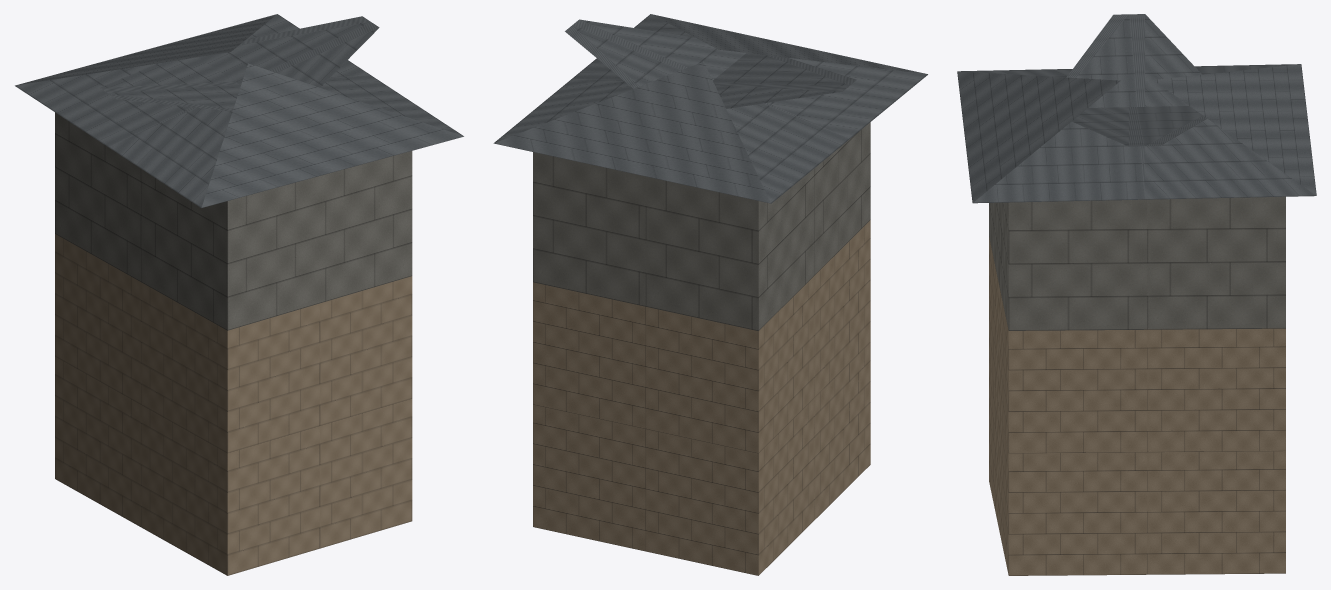
The model's file is bld_c-2_1_527.gltf.
3 renders of one model, left to right at view 1: azimuth 30°, elevation 25°; view 2: azimuth 150°, elevation 25°; view 3: azimuth 270°, elevation 25°, orthographic.
Visible parts, largest first — view 1: bld_c-2_1_527; view 2: bld_c-2_1_527; view 3: bld_c-2_1_527.
Boxes of the visible parts, bbox=[...] form: bld_c-2_1_527: bbox=[15, 14, 463, 575]; bld_c-2_1_527: bbox=[493, 14, 927, 575]; bld_c-2_1_527: bbox=[957, 14, 1316, 575].
Size of the model in its own units: 5.6 by 8.3 by 6.11.
3 materials, 3 textured.
